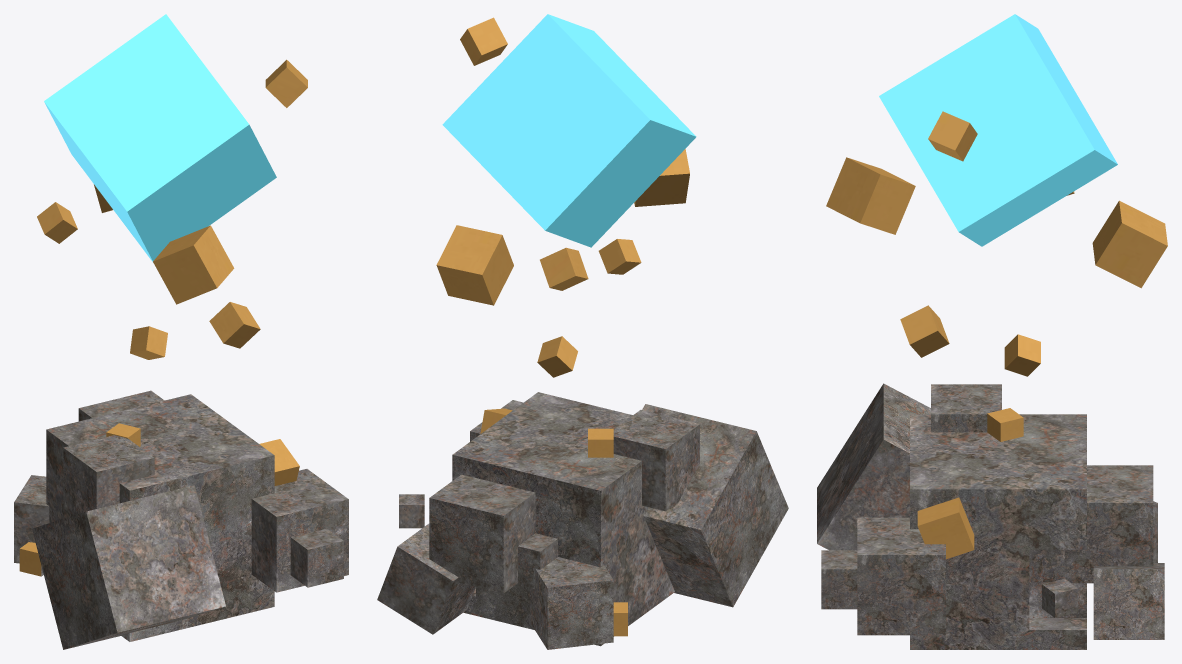
The model's file is Squares_7.glb.
3 renders of one model, left to right at view 1: azimuth 30°, elevation 25°; view 2: azimuth 150°, elevation 25°; view 3: azimuth 270°, elevation 25°, orthographic. The views are drawn at different scales.
Visible parts, largest first — view 1: Cube.019; view 2: Cube.019; view 3: Cube.019.
Part boxes in pixels (x1=…): Cube.019: x1=14, y1=14, x2=348, y2=649; Cube.019: x1=377, y1=14, x2=788, y2=649; Cube.019: x1=817, y1=14, x2=1167, y2=649.
Bounding box in the file's own units: 3.7 × 7.56 × 3.96.
Materials: 3 (2 with a texture image).
